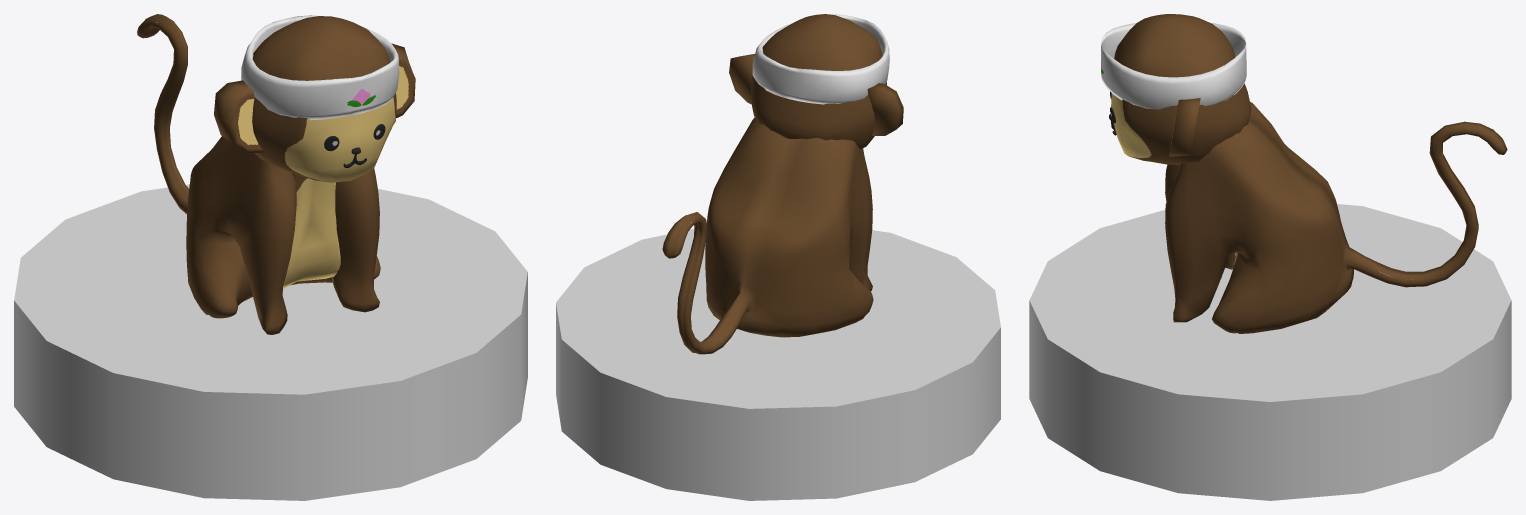
The model's file is saru.fbx.
The picture shows the model from 3 angles, left to right: view 1: azimuth 30°, elevation 25°; view 2: azimuth 150°, elevation 25°; view 3: azimuth 270°, elevation 25°; orthographic projection. The views are drawn at different scales.
Parts seen in each view (by area): view 1: base.004, saru; view 2: base.004, saru; view 3: base.004, saru.
Boxes of the visible parts, left/top/right/bottom form: base.004: left=14, top=184, right=527, bottom=500; saru: left=137, top=14, right=415, bottom=334; base.004: left=556, top=229, right=1000, bottom=500; saru: left=662, top=14, right=903, bottom=354; base.004: left=1029, top=204, right=1511, bottom=500; saru: left=1101, top=14, right=1507, bottom=333.
Size of the model in its own units: 100 by 87.35 by 100.
1 material, 1 textured.
